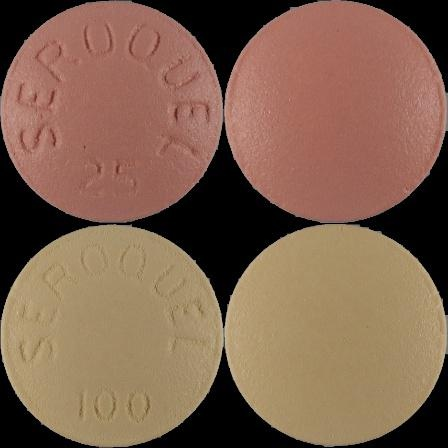67046-660: (0, 0, 224, 224)
